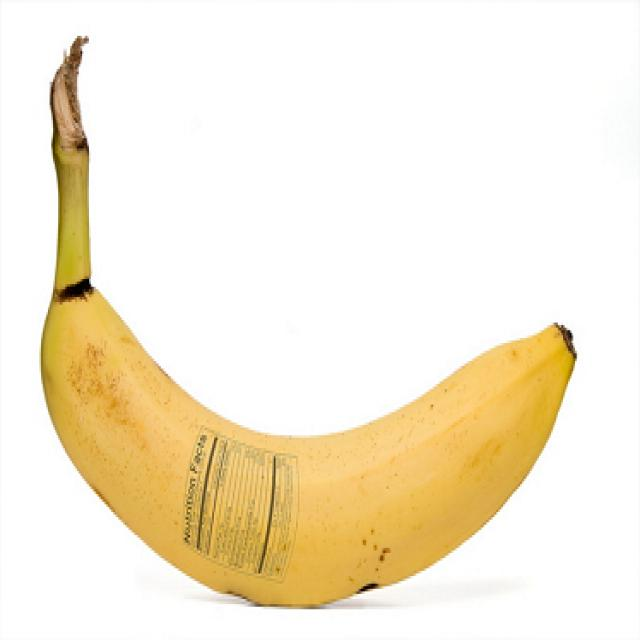Banana: (33, 41, 575, 607)
